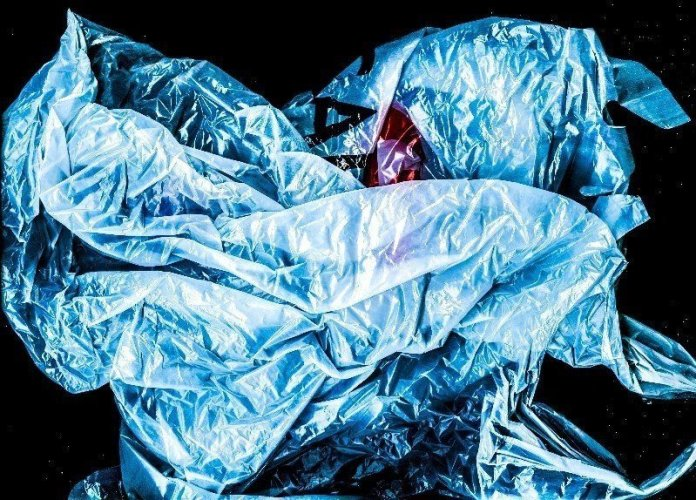plastic_bagwdw: (7, 3, 696, 499)
